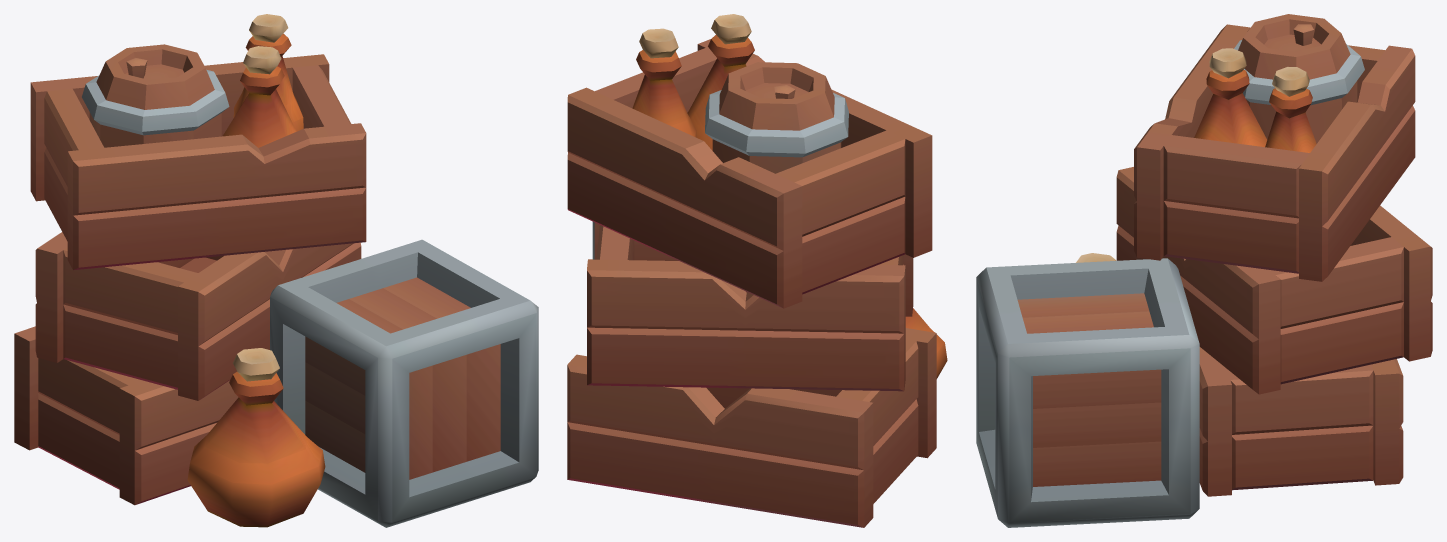
File: crates_stacked.glb
3 renders of one model, left to right at view 1: azimuth 30°, elevation 25°; view 2: azimuth 150°, elevation 25°; view 3: azimuth 270°, elevation 25°, orthographic. The views are drawn at different scales.
Visible parts, largest first — view 1: crates_stacked; view 2: crates_stacked; view 3: crates_stacked.
Part boxes in pixels (x1,y1,x2,y2): crates_stacked: (14,14,538,527); crates_stacked: (567,14,947,527); crates_stacked: (976,14,1432,527).
Size of the model in its own units: 2.09 by 2.14 by 2.25.
1 material, 1 textured.
